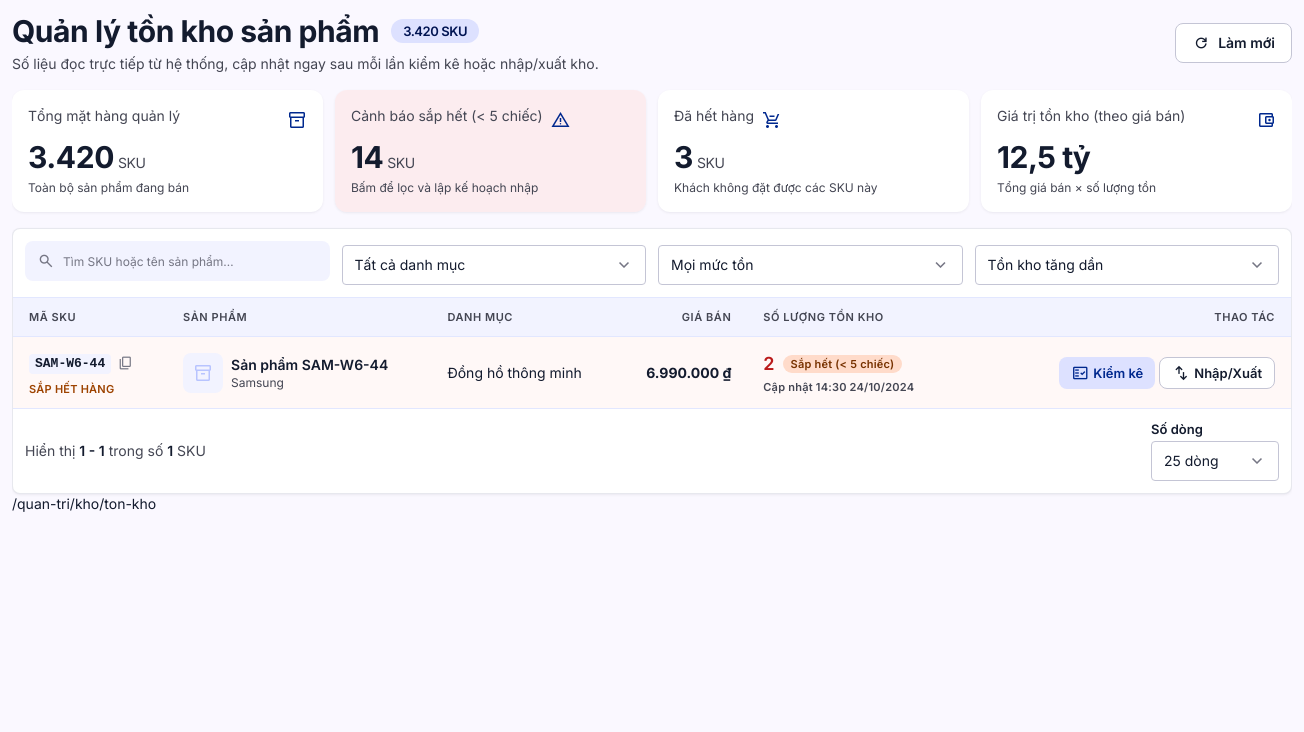
Scenario: InventoryPage › kiểm kê: tồn vừa đổi (409 STOCK_CHANGED) → báo lỗi, giữ ô nhập, lần lưu sau dùng số mới
Click the button with aria-label "Kiểm kê SAM-W6-44" at (1107, 372), box [1059,356,1155,388]
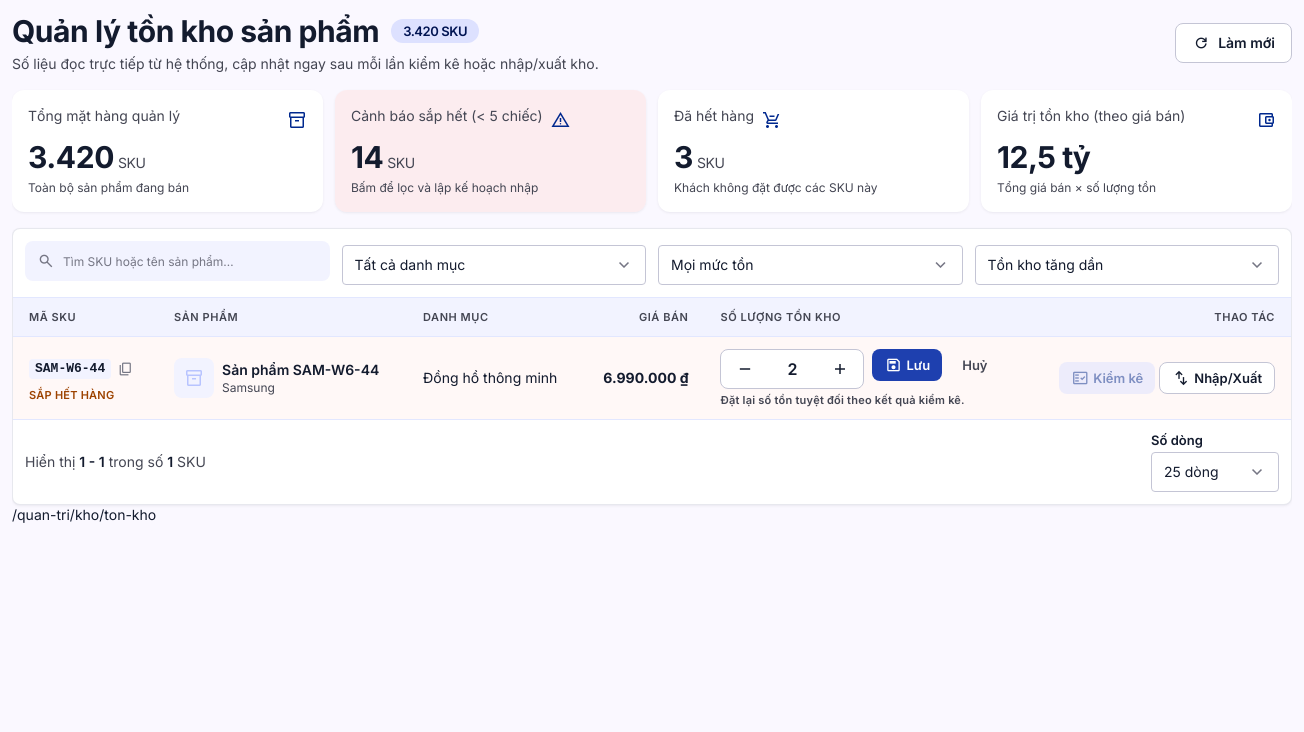
Replace the text in the field named "Số tồn thực tế SAM-W6-44" with "20" at (792, 369), box [768,354,816,384]
Then press Enter
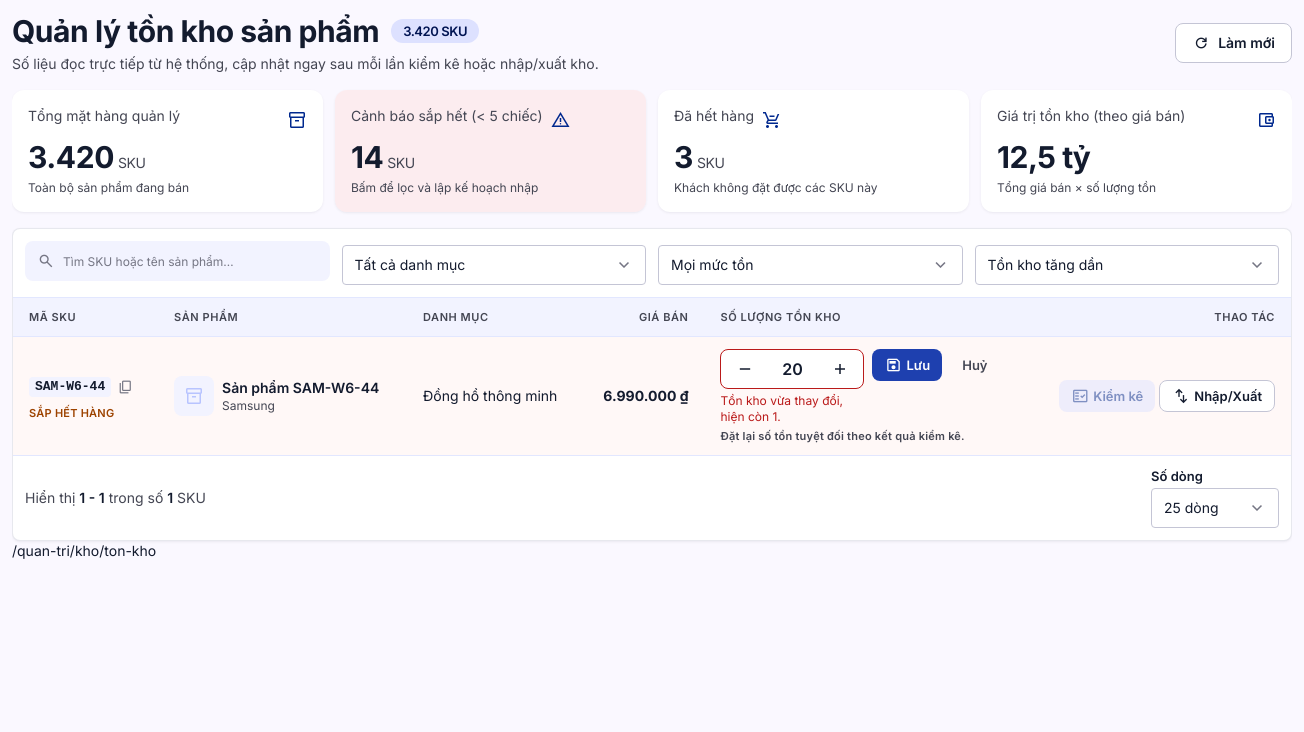
Expected: the text "Tồn kho vừa thay đổi, hiện còn 1." is shown, [720,393,864,425]
Click the button "Lưu" at (907, 365), box [872,349,942,381]
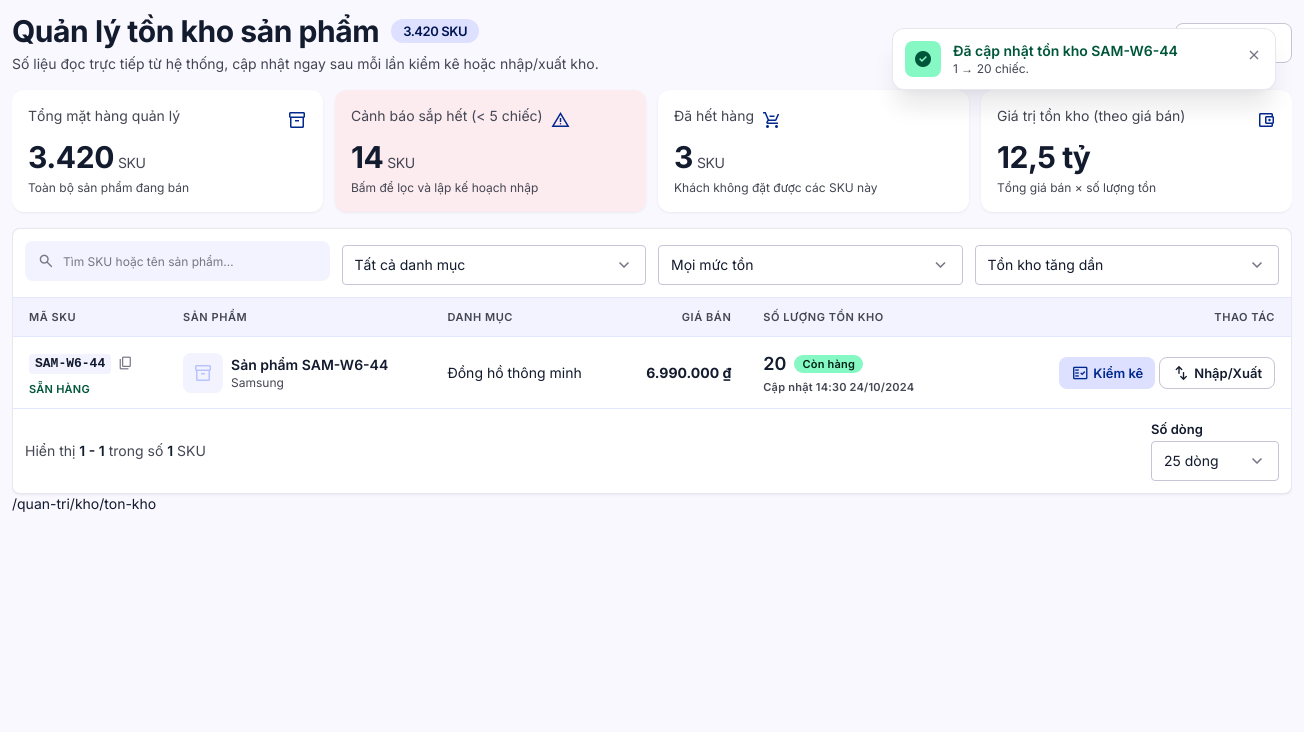
Expected: the text "Đã cập nhật tồn kho SAM-W6-44" is shown, [953,42,1178,59]
